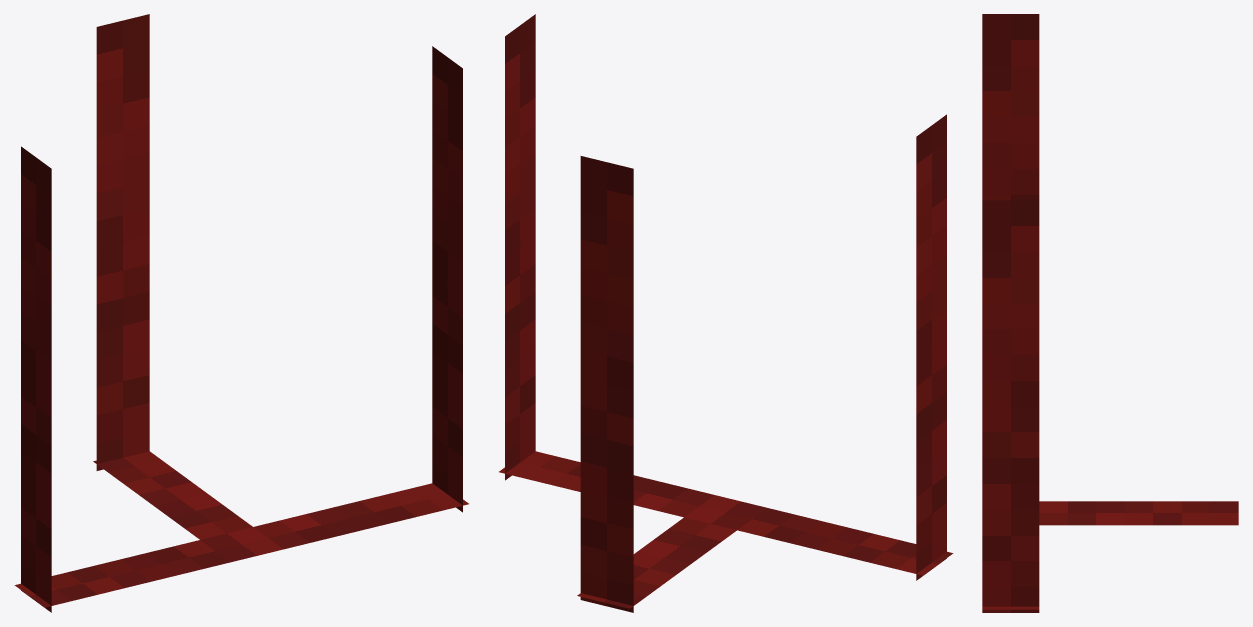
The model's file is dust_2202.gltf.
The picture shows the model from 3 angles, left to right: view 1: azimuth 30°, elevation 25°; view 2: azimuth 150°, elevation 25°; view 3: azimuth 270°, elevation 25°; orthographic projection. The views are drawn at different scales.
Parts seen in each view (by area): view 1: dust_2202; view 2: dust_2202; view 3: dust_2202.
Part boxes in pixels (bbox=[...]): dust_2202: bbox=[14, 14, 468, 612]; dust_2202: bbox=[499, 14, 953, 612]; dust_2202: bbox=[982, 14, 1238, 612].
Bounding box in the file's own units: 1 × 1 × 0.5625.
1 material, 1 textured.
